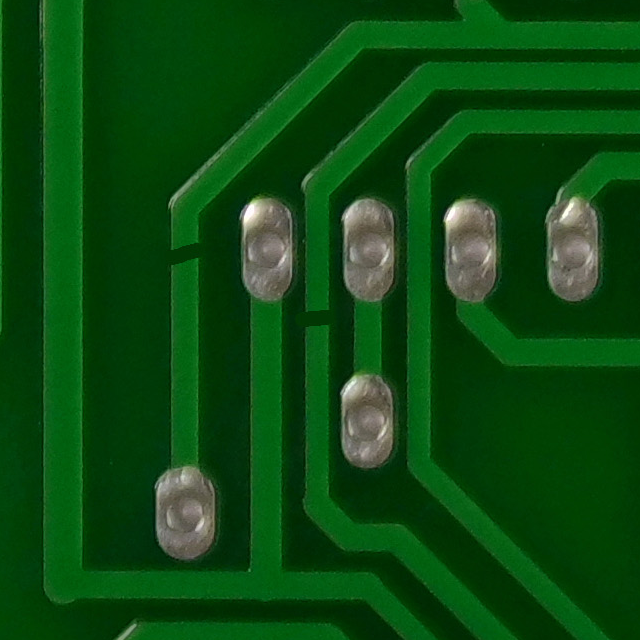open_circuit: (147, 227, 214, 286), (293, 299, 347, 342)
